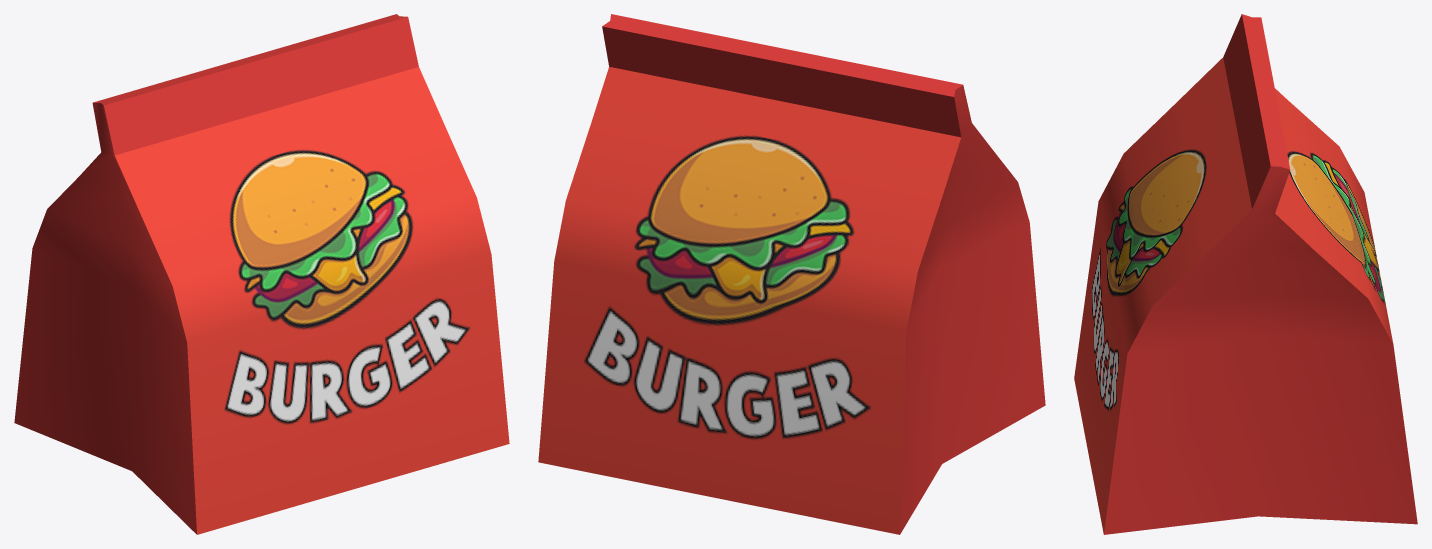
The model's file is Package.fbx.
3 renders of one model, left to right at view 1: azimuth 30°, elevation 25°; view 2: azimuth 150°, elevation 25°; view 3: azimuth 270°, elevation 25°, orthographic. The views are drawn at different scales.
Visible parts, largest first — view 1: Package; view 2: Package; view 3: Package.
Part boxes in pixels (x1,y1,x2,y2): Package: [14, 14, 509, 534]; Package: [538, 14, 1045, 534]; Package: [1074, 14, 1417, 534].
Size of the model in its own units: 171 by 173 by 149.
1 material, 1 textured.
